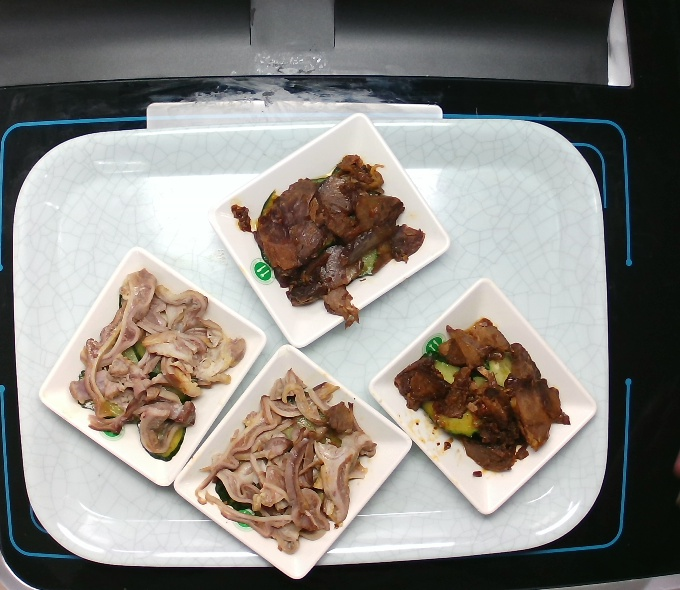wcq-JiangNiuRou: (229, 141, 427, 332), (387, 299, 569, 491)
wcq-ZhuDu: (62, 260, 249, 473), (195, 361, 383, 559)
